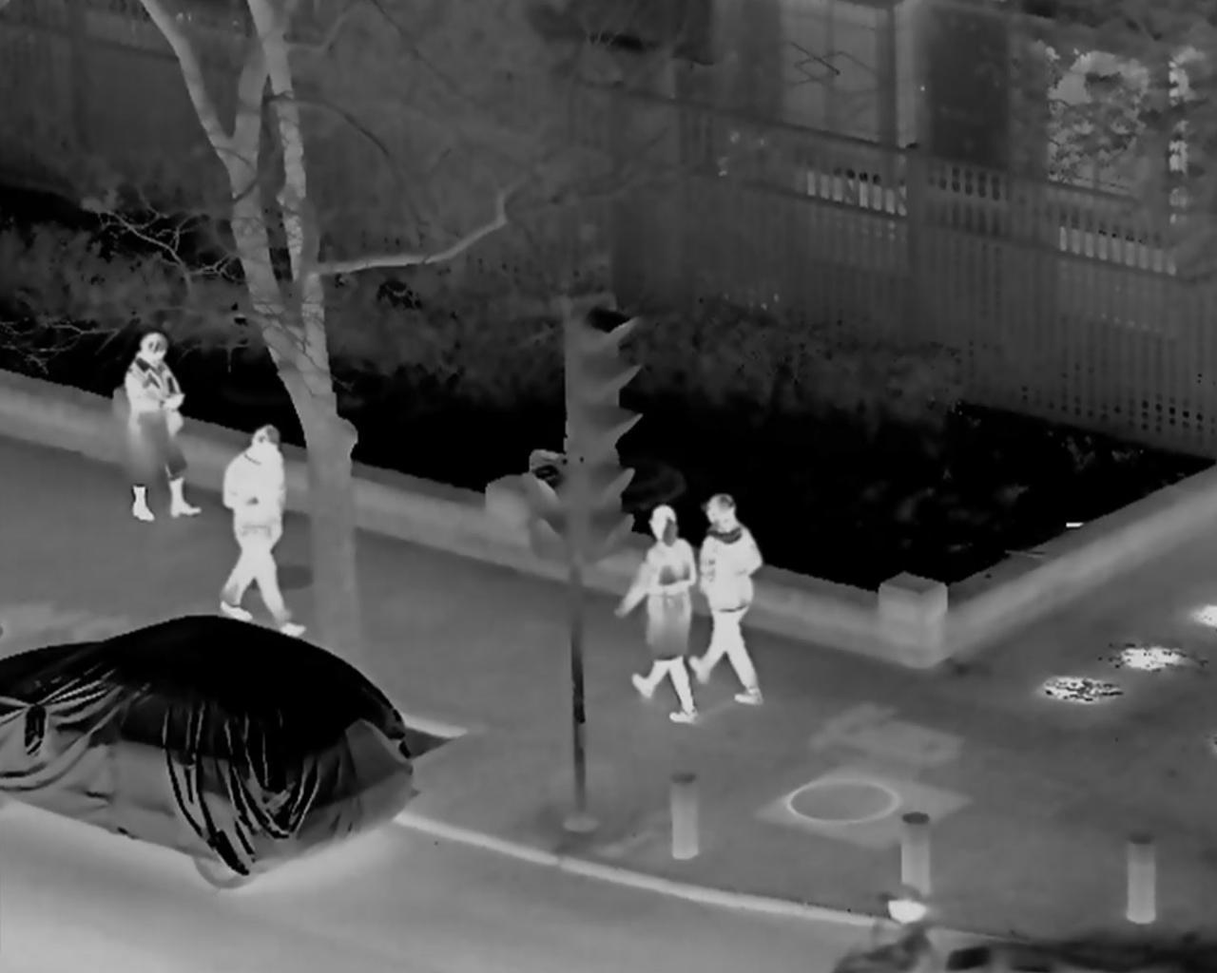person: (606, 506, 697, 722), (214, 424, 304, 636), (683, 492, 763, 706), (121, 335, 200, 534)
